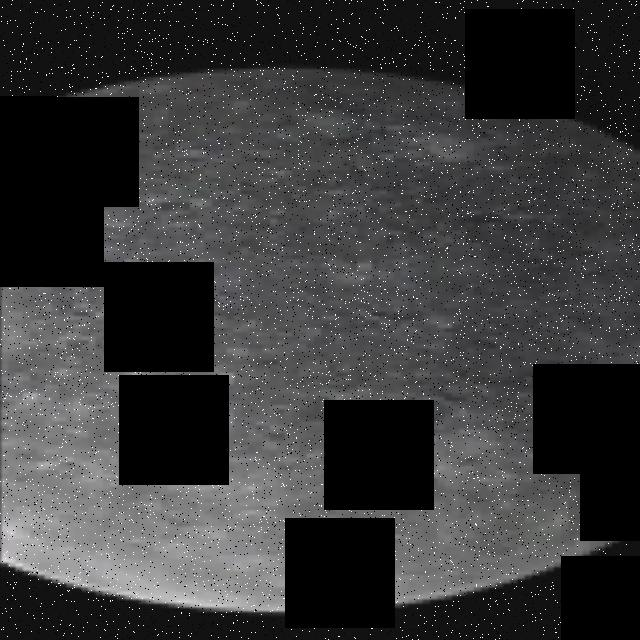Mercury: (0, 65, 640, 616)
